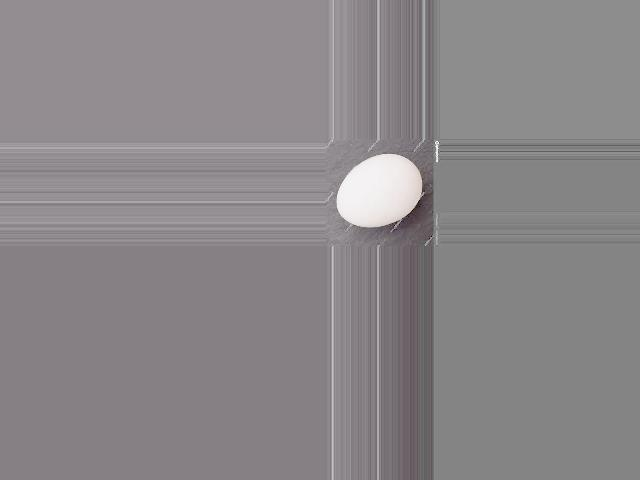egg: (337, 154, 422, 227)
